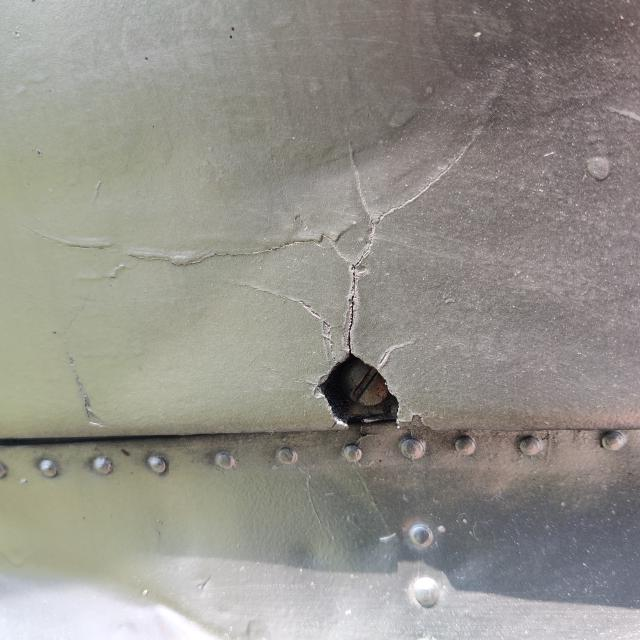crack: (239, 106, 510, 442)
